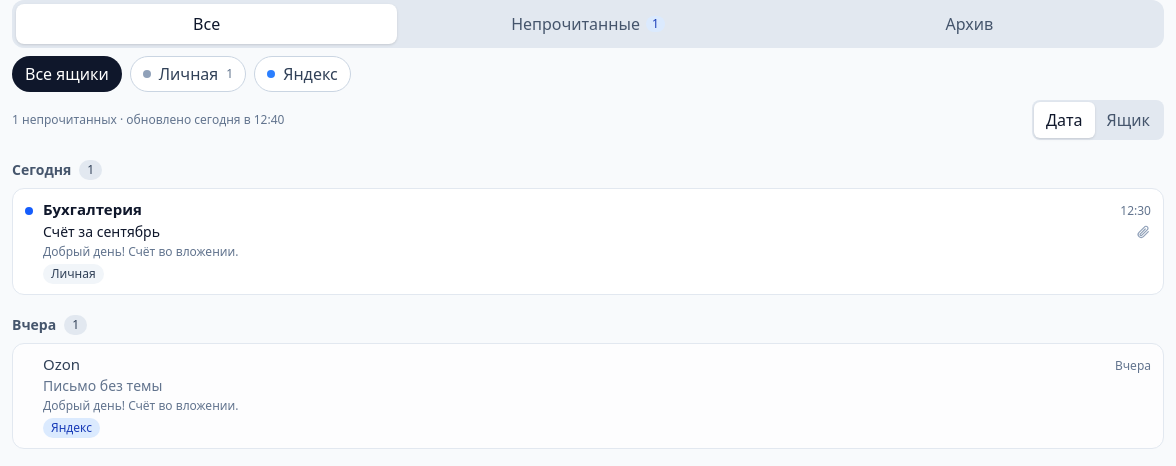
Test: экран «Почта» › не показывает архивные письма в «Все» и показывает их в «Архиве»
The image size is (1176, 466).
Expected: the text "Старое письмо" is not shown
Click the tab "Архив": click(969, 24) [779,4,1160,44]
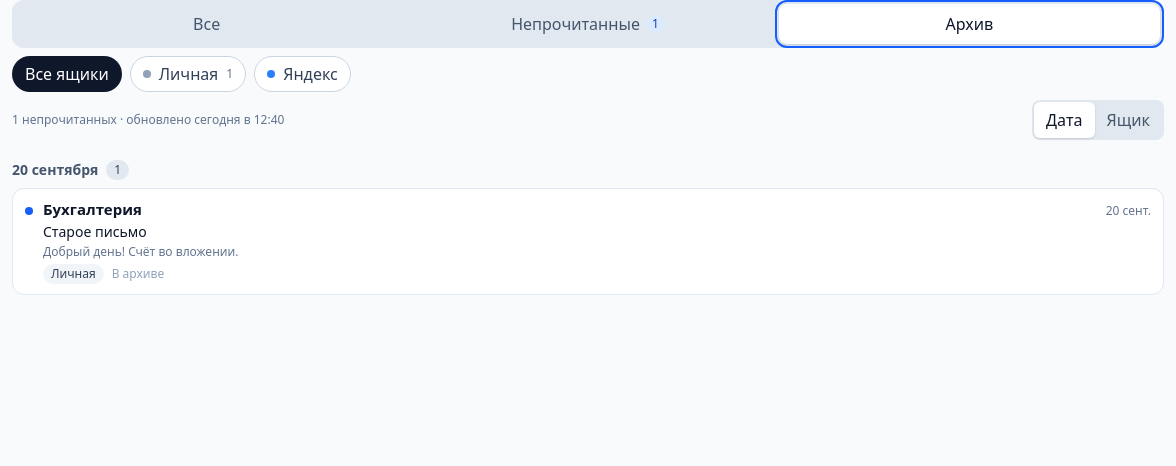
Now the text "Старое письмо" is shown, box [43,222,147,241]
Now the button "Счёт за сентябрь" is gone
